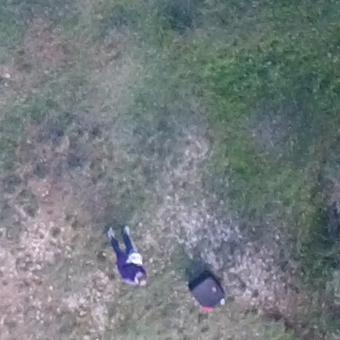human: (106, 223, 151, 288)
